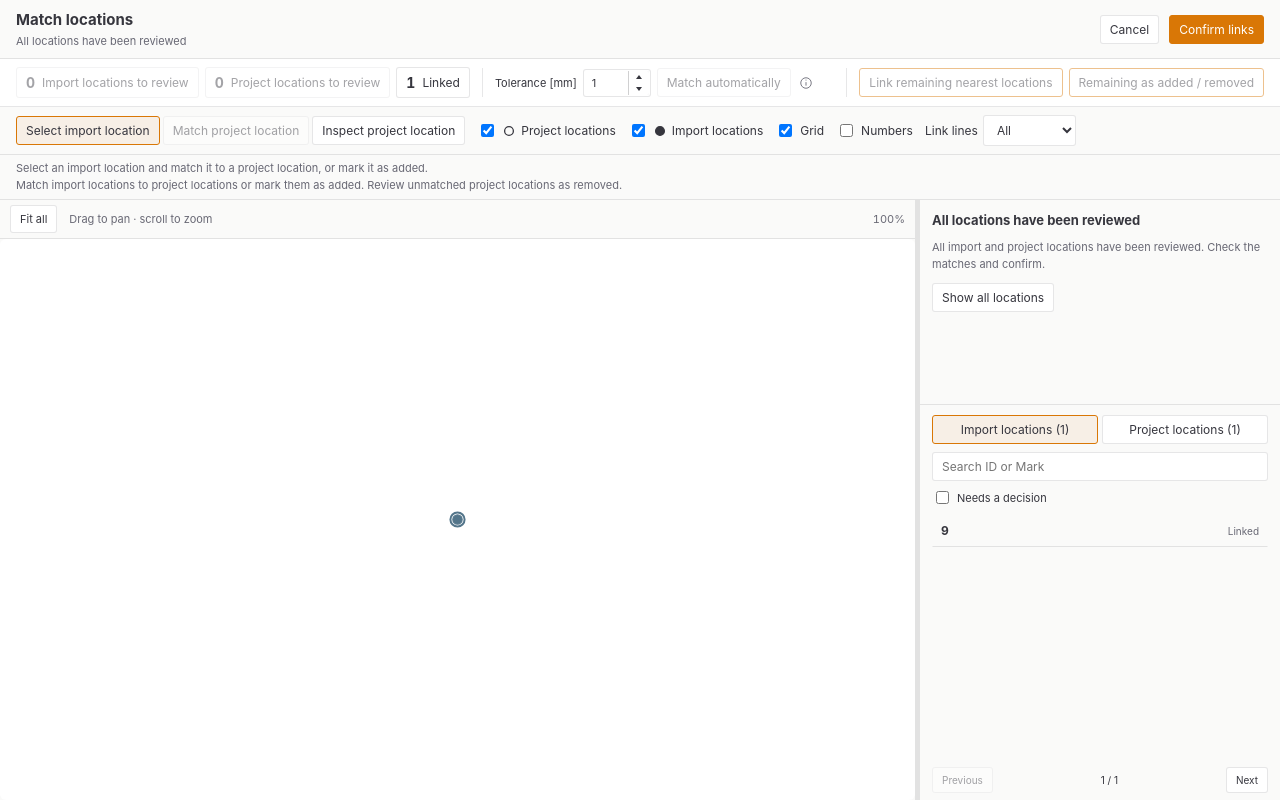
Test: tolerance help shows the explanation immediately on hover or focus without a native tooltip
Hover over the button named "Applies tolerance to remaining locations. Existing choices are retained." at {"x": 806, "y": 82}, box [797, 74, 815, 92]
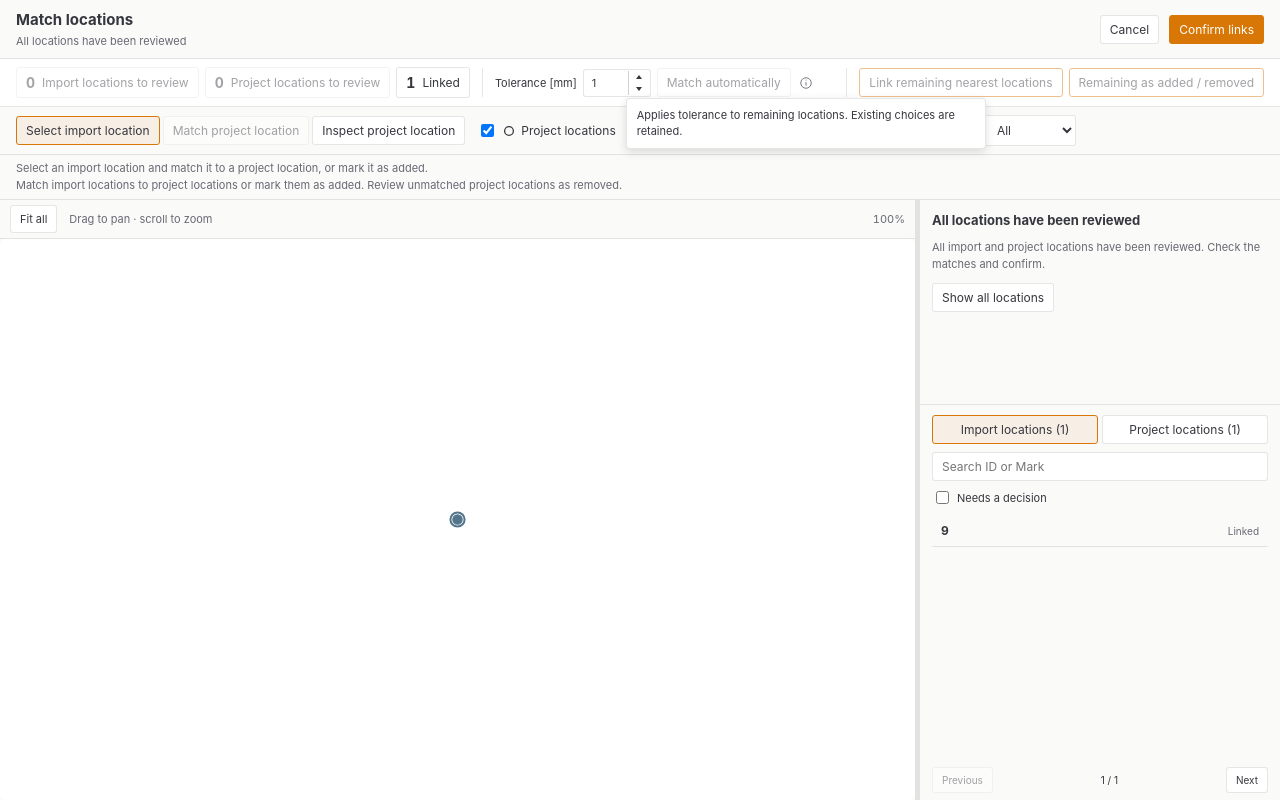
Expected: the tooltip reads "Applies tolerance to remaining locations. Existing choices are retained.", [637, 108, 958, 138]
Move the pointer off the button named "Applies tolerance to remaining locations. Existing choices are retained.", box [797, 74, 815, 92]
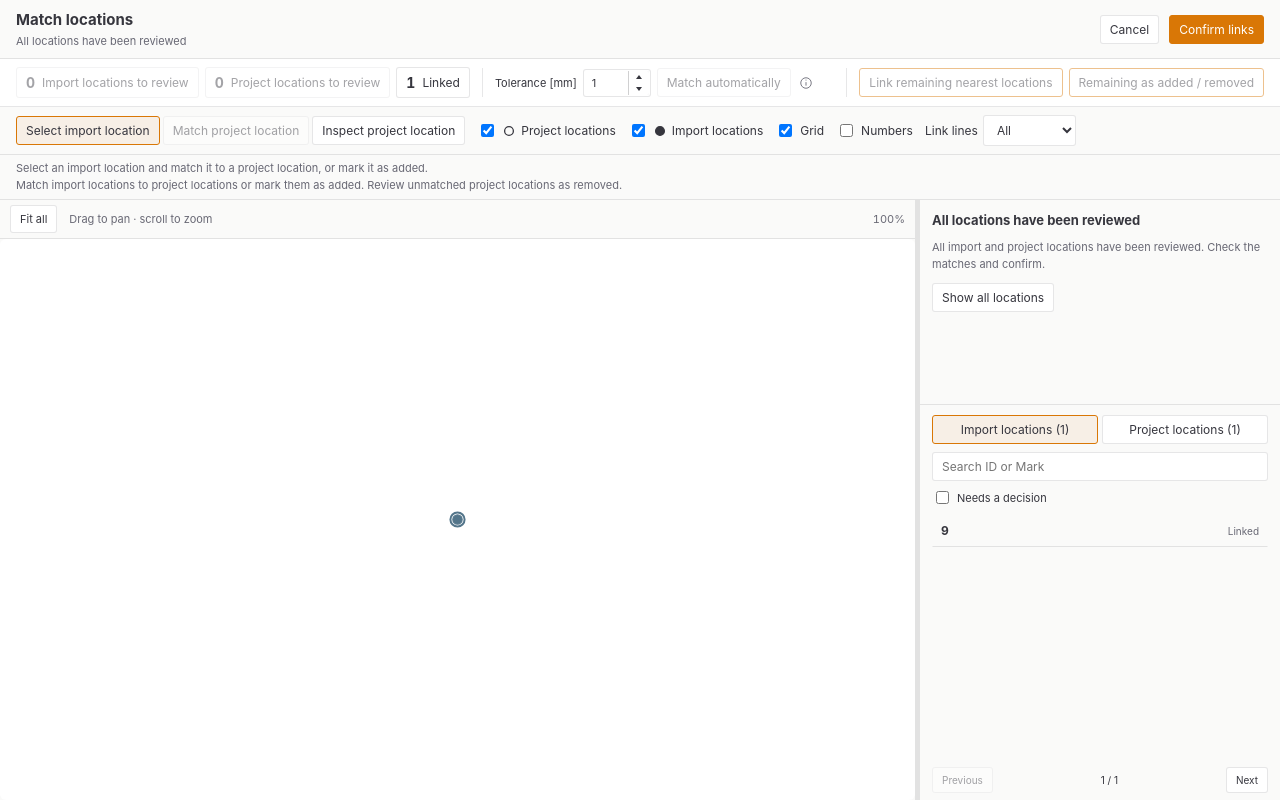
Expected: the tooltip "Applies tolerance to remaining locations. Existing choices are retained." is gone
Focus the button named "Applies tolerance to remaining locations. Existing choices are retained.". click: {"x": 806, "y": 82}
box: [797, 74, 815, 92]
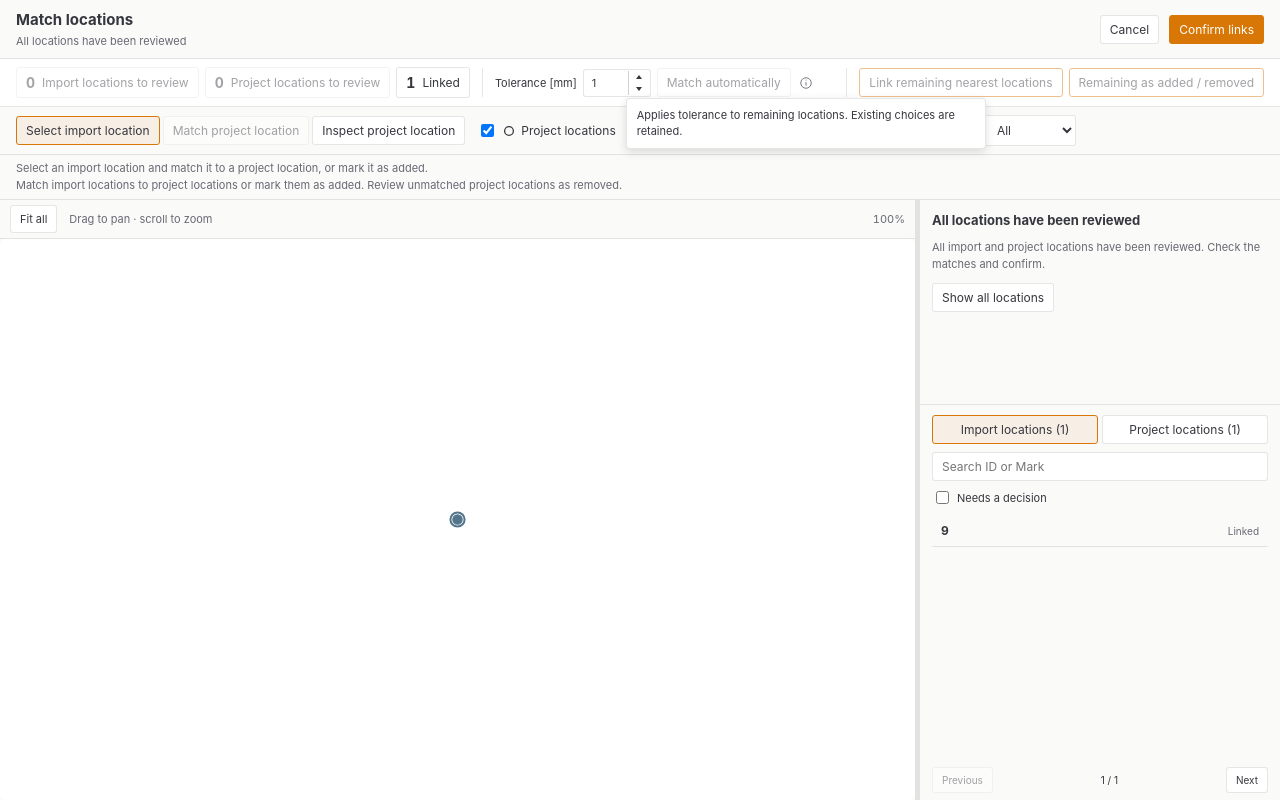
Expected: the tooltip is shown, [626, 98, 986, 148]
Leave the button named "Applies tolerance to remaining locations. Existing choices are retained.", box [797, 74, 815, 92]
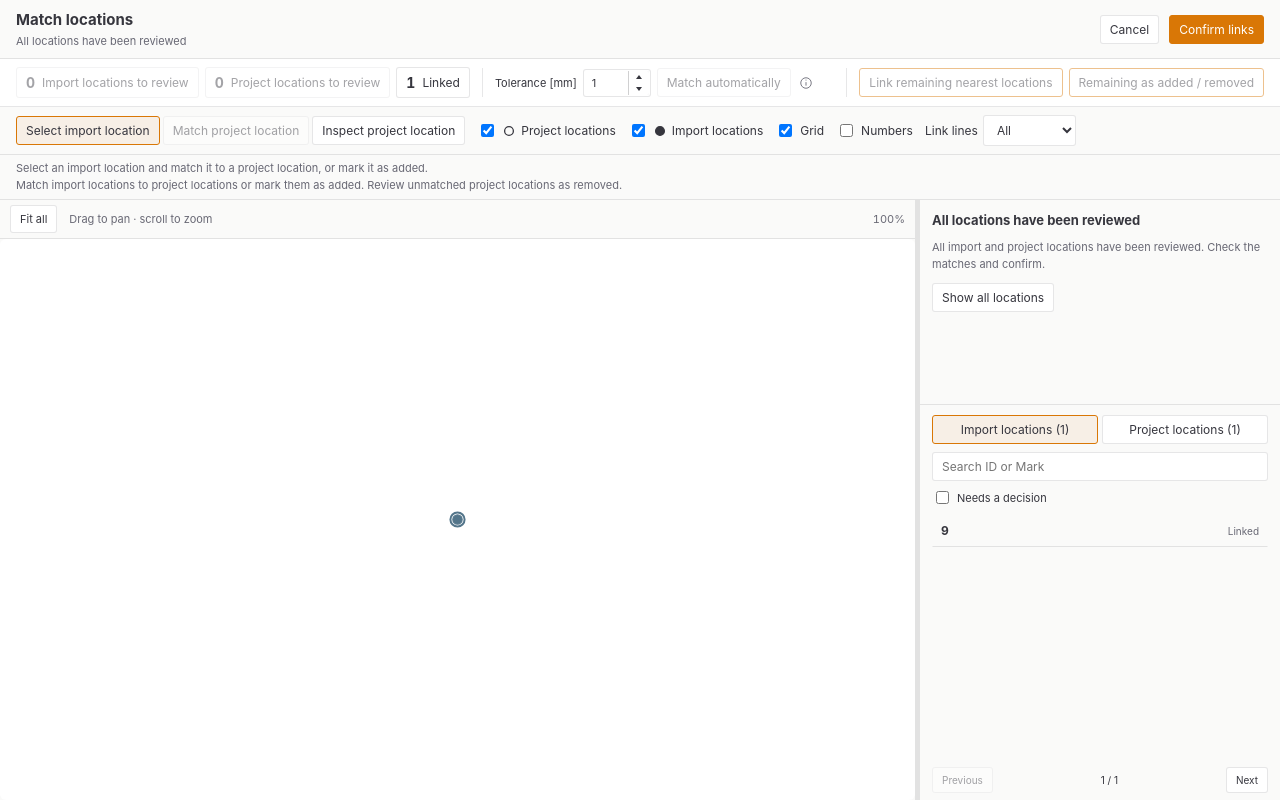
Expected: the tooltip "Applies tolerance to remaining locations. Existing choices are retained." is gone
